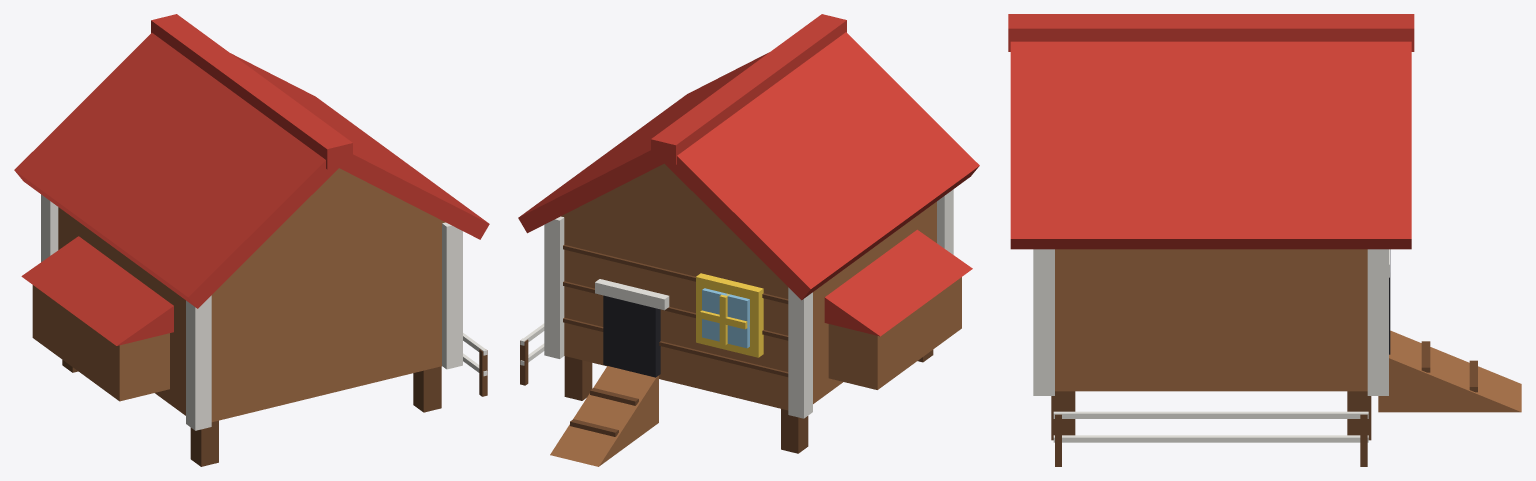
Rendered from LittleCoop.fbx.
The picture shows the model from 3 angles, left to right: view 1: azimuth 30°, elevation 25°; view 2: azimuth 150°, elevation 25°; view 3: azimuth 270°, elevation 25°; orthographic projection. The views are drawn at different scales.
Visible parts, largest first — view 1: LittleCoop; view 2: LittleCoop; view 3: LittleCoop.
Part boxes in pixels (bbox=[...]): LittleCoop: bbox=[14, 14, 489, 466]; LittleCoop: bbox=[518, 14, 979, 466]; LittleCoop: bbox=[1008, 14, 1521, 466].
Bounding box in the file's own units: 274 × 227 × 301.
